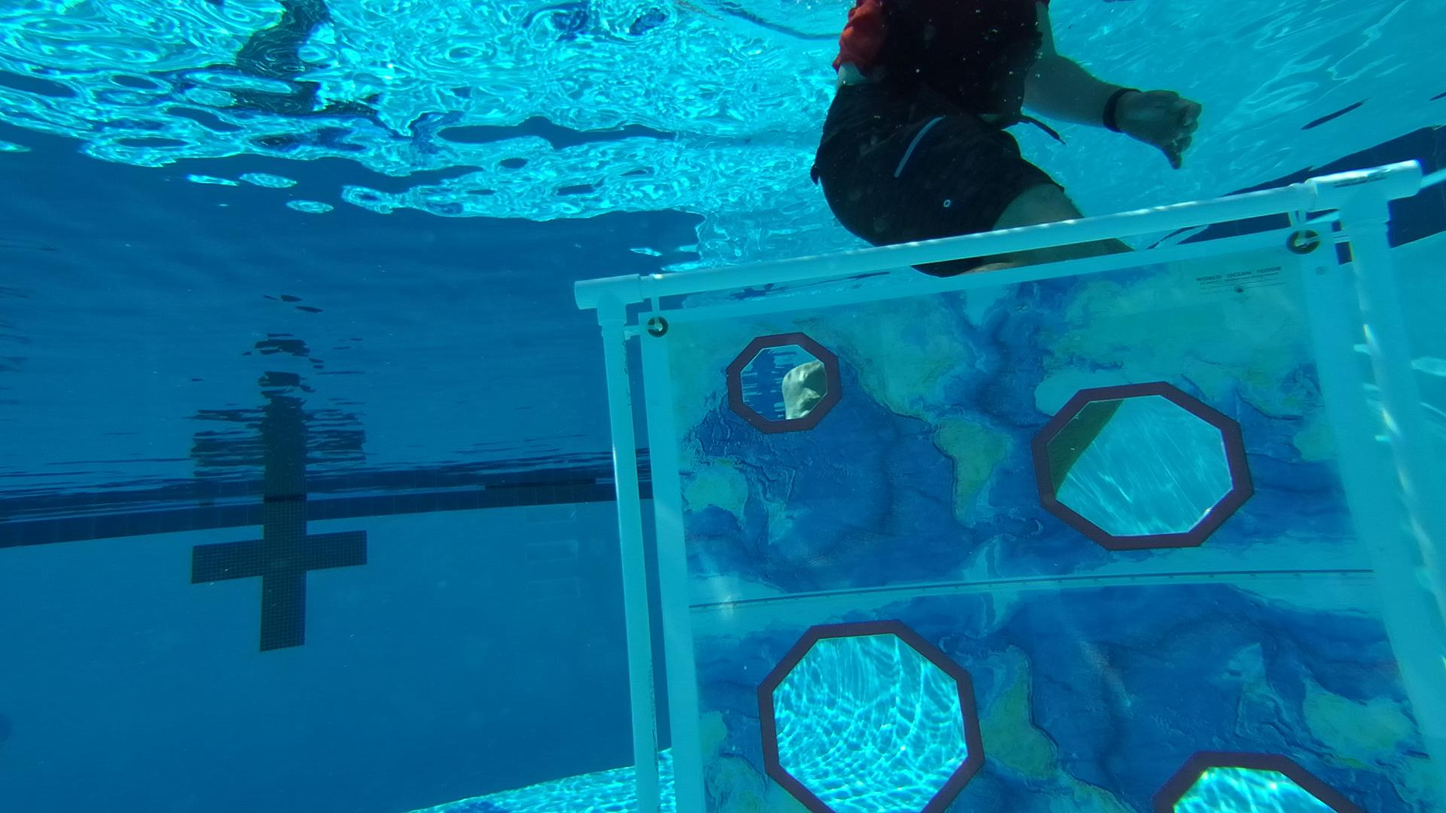red octagon: (754, 617, 987, 810), (1029, 378, 1255, 553), (1154, 748, 1364, 813), (726, 337, 841, 435)
